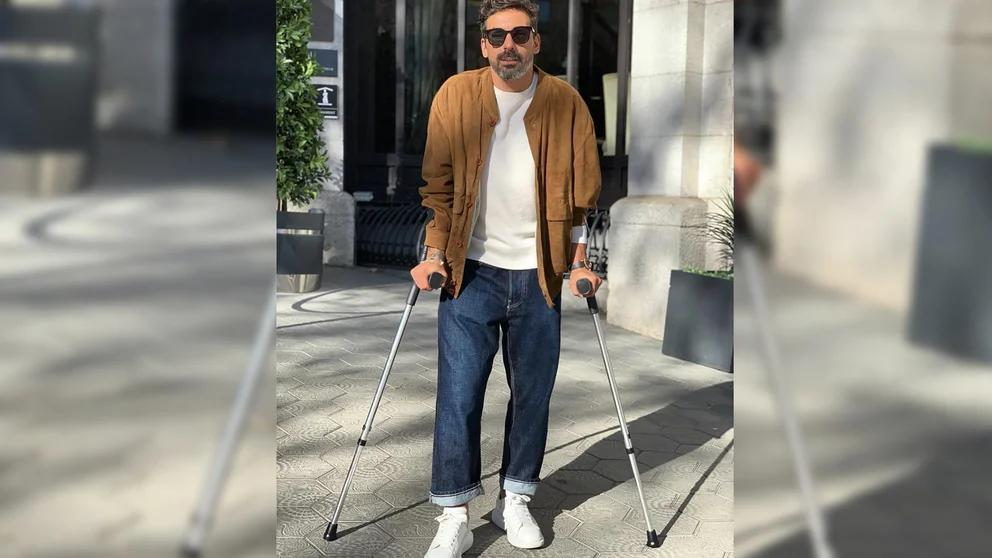crutches: (322, 0, 660, 558)
